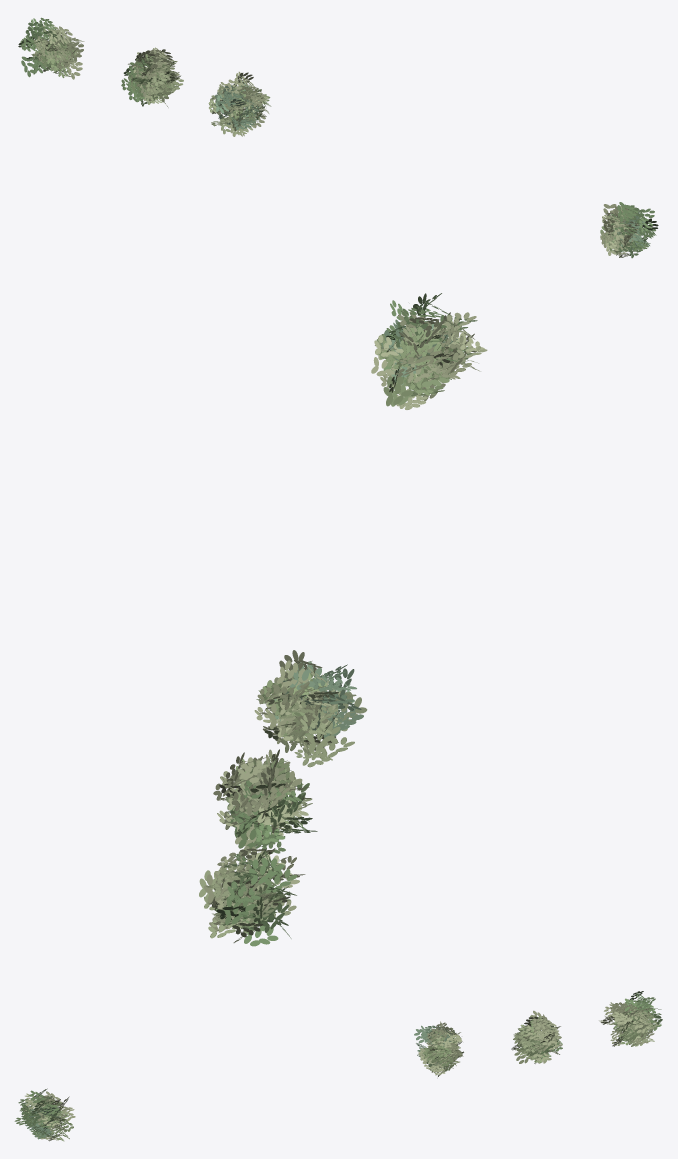
File: campus-tree--6_-6-far.glb
3 renders of one model, top to bottom at view 1: azimuth 30°, elevation 25°; view 2: azimuth 150°, elevation 25°; view 3: azimuth 270°, elevation 25°, orthographic. The views are drawn at different scales.
Parts seen in each view (by area): view 1: Campus leaf canopy; view 2: Campus leaf canopy; view 3: Campus leaf canopy.
Boxes of the visible parts, left/top/right/bottom form: Campus leaf canopy: left=18, top=17, right=658, bottom=258; Campus leaf canopy: left=199, top=293, right=487, bottom=946; Campus leaf canopy: left=14, top=991, right=662, bottom=1141.
Bounding box in the file's own units: 31.91 × 7.13 × 69.48.
1 material, 1 textured.
